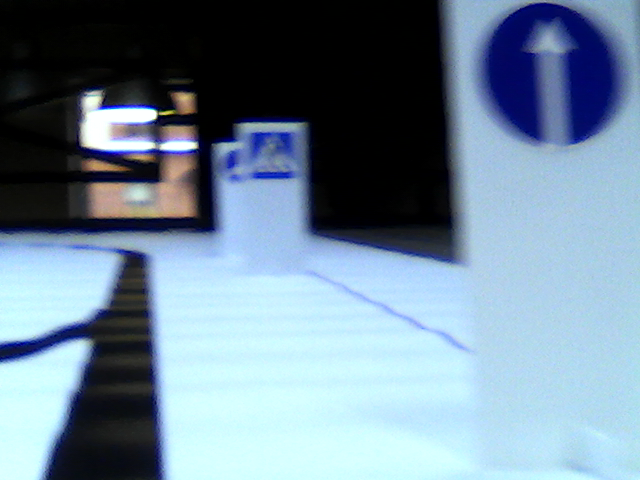forw: (480, 4, 627, 148)
pesh: (250, 129, 296, 180)
